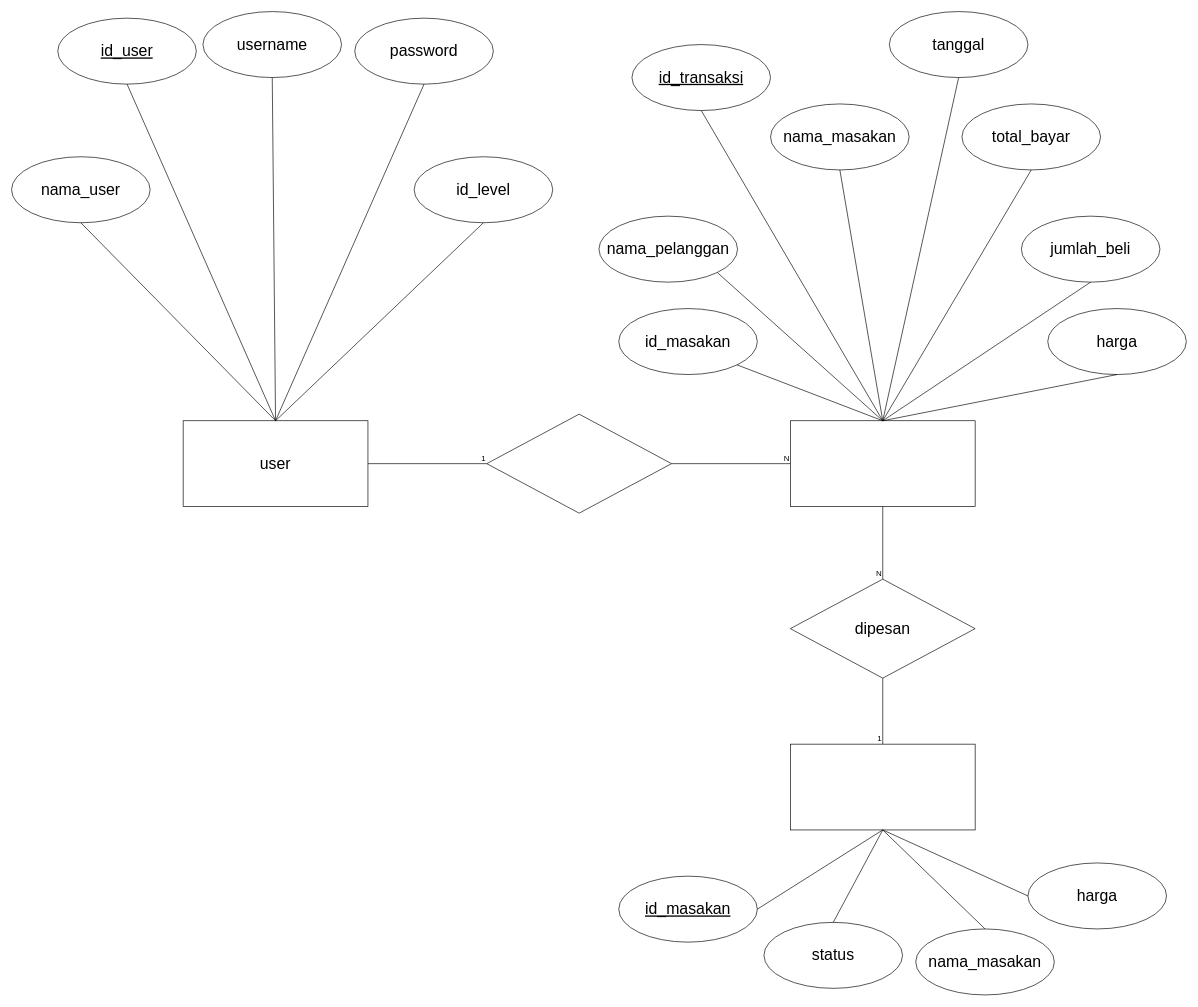
The diagram is 1198 pixels wide and 1007 high, and some of its shapes have lost their labels. Here are the shapes that lost their labels. From the top down, the centre of each, then its label:
the point at 579,463: melakukan
the point at 882,463: transaksi
the point at 882,786: masakan
